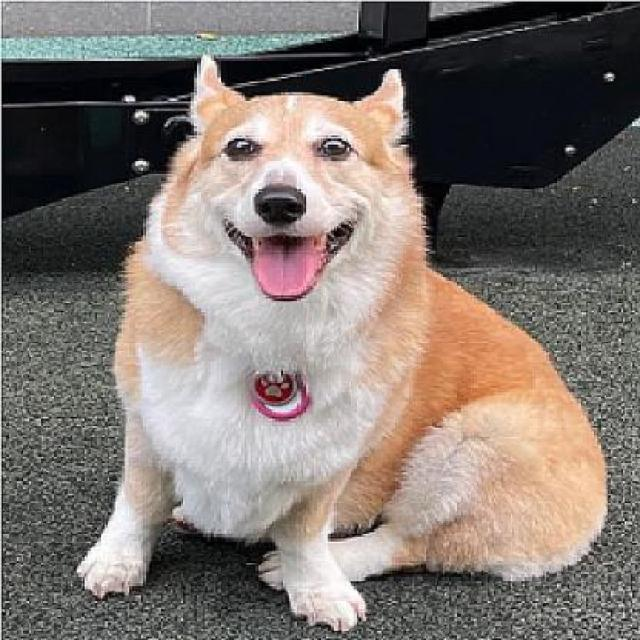Dog: (74, 49, 614, 628)
